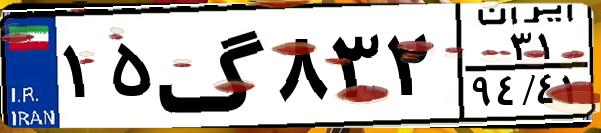1: (57, 26, 110, 100), (560, 70, 590, 125), (537, 27, 568, 80)
2: (385, 28, 445, 110)
3: (330, 28, 385, 110), (508, 27, 537, 80)
4: (495, 70, 520, 125), (535, 70, 560, 125)
5: (110, 28, 156, 98)
8: (270, 28, 330, 110)
9: (470, 70, 495, 125)
گ: (156, 12, 270, 120)
